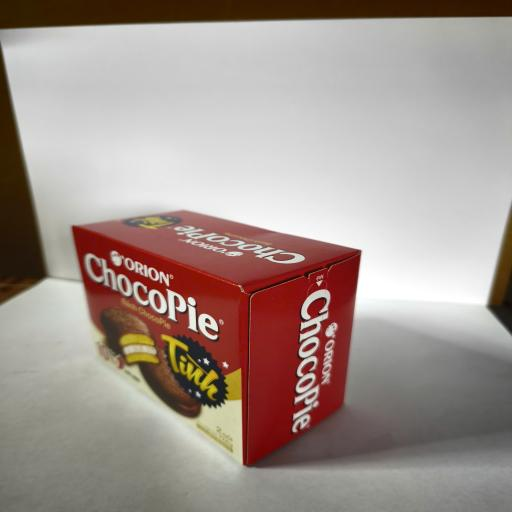chocopie: (71, 210, 362, 466)
